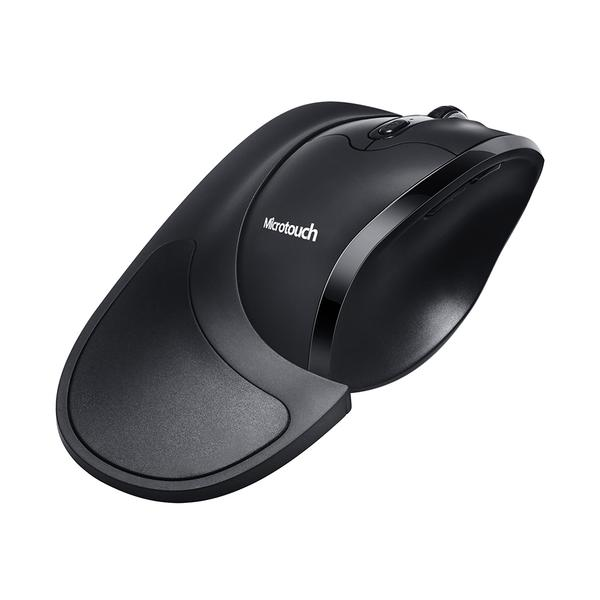Mouse: (29, 85, 554, 516)
